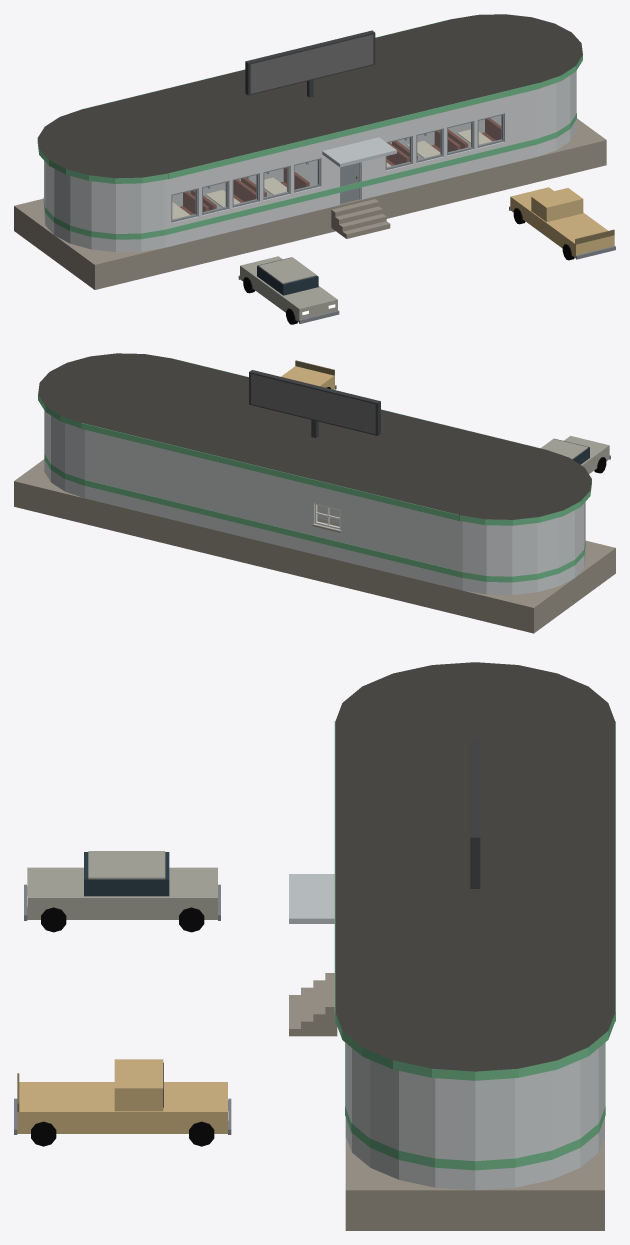
The model's file is diner.glb.
3 renders of one model, top to bottom at view 1: azimuth 30°, elevation 25°; view 2: azimuth 150°, elevation 25°; view 3: azimuth 270°, elevation 25°, orthographic. The views are drawn at different scales.
Parts seen in each view (by area): view 1: LOD0, FURN, LEAF0; view 2: LOD0; view 3: LOD0.
Part boxes in pixels (x1,y1,x2,y2): LOD0: (14, 14, 615, 324); FURN: (172, 118, 501, 219); LEAF0: (340, 163, 359, 203); LOD0: (14, 353, 615, 633); LOD0: (14, 662, 615, 1230).
Size of what is drawn, in the model's own units: 23.9 by 6.6 by 14.85.
